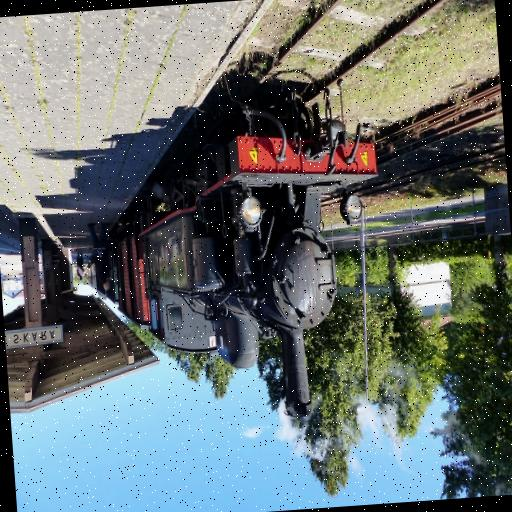platform_edge: (90, 0, 295, 206)
